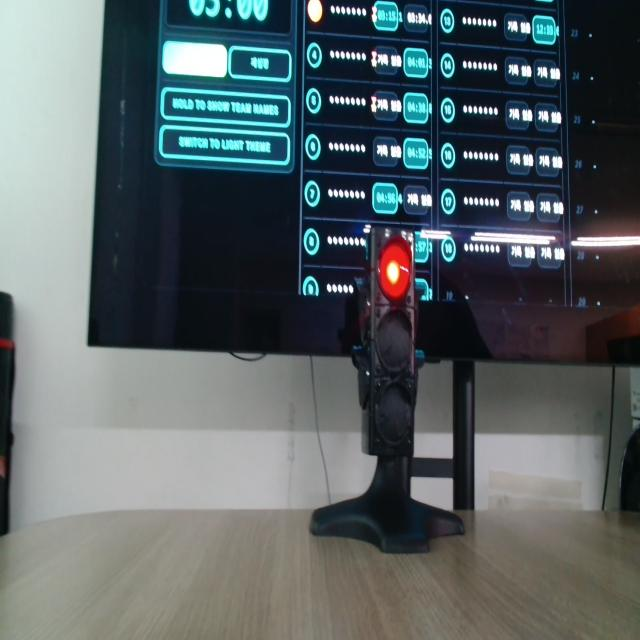red_light: (379, 238, 412, 300)
